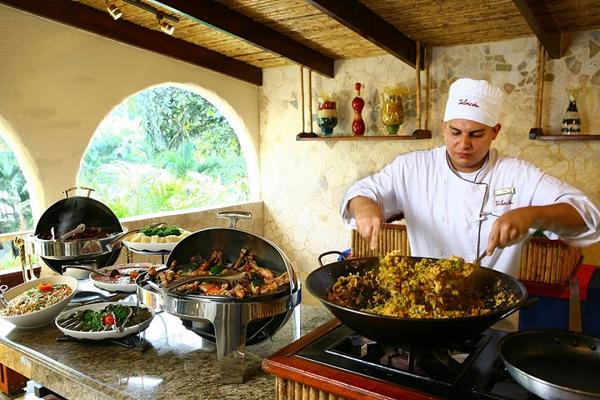person: (343, 79, 600, 285)
